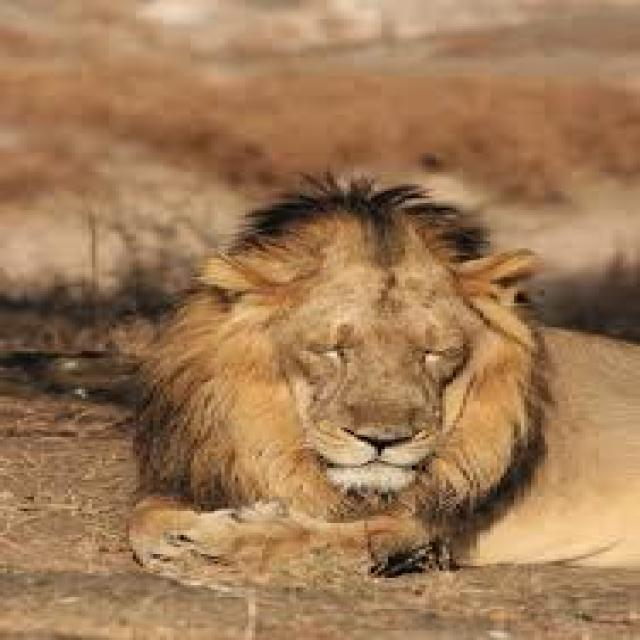Lion: (116, 174, 551, 573)
